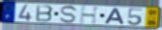4: (17, 4, 34, 22)
5: (127, 8, 144, 26)
A: (103, 8, 126, 25)
B: (36, 4, 55, 23)
H: (79, 6, 102, 25)
S: (60, 5, 80, 24)
